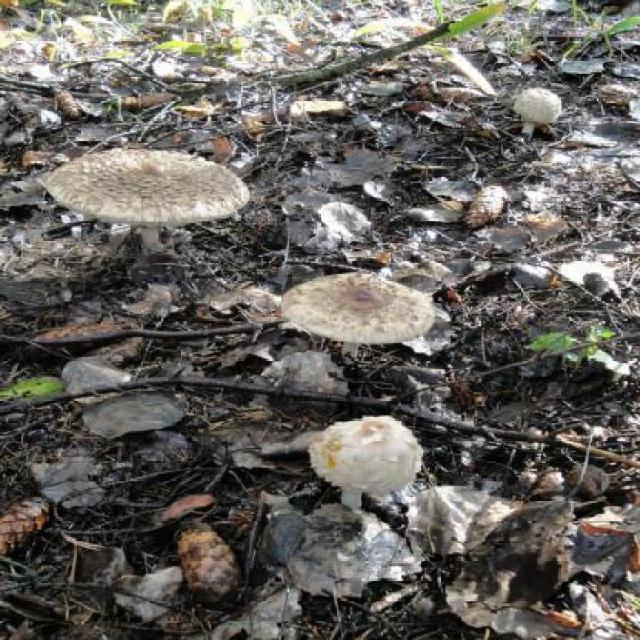Mushroom: (38, 142, 250, 262), (277, 269, 437, 362), (309, 413, 423, 512), (508, 86, 558, 140)
